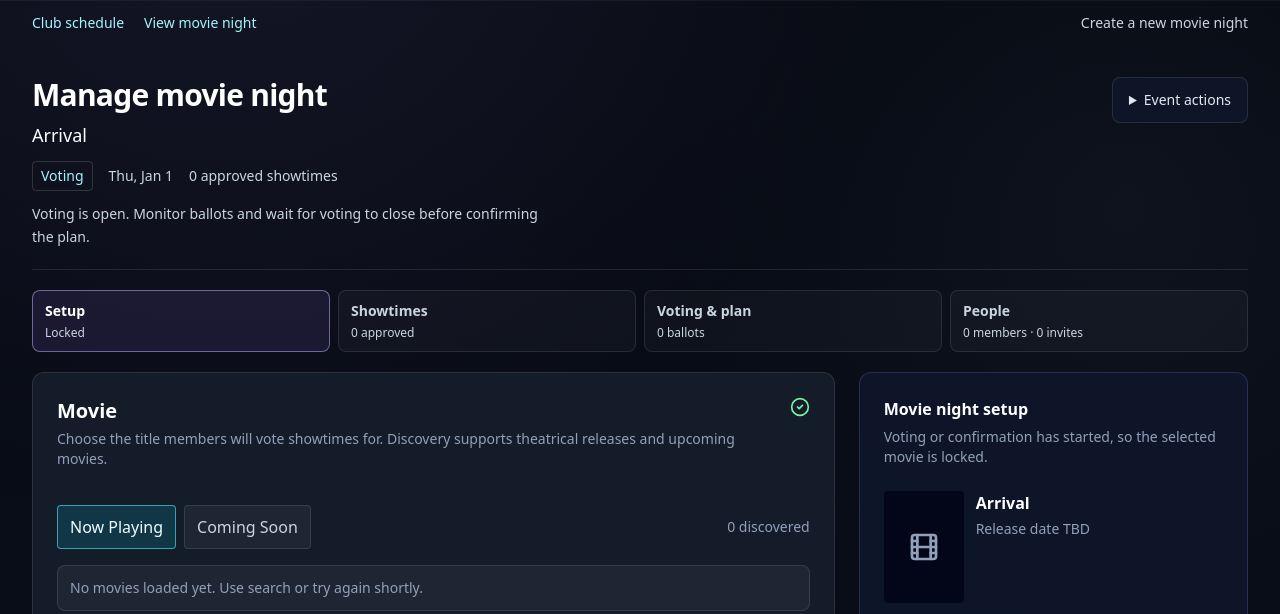
Test: event administration lifecycle › offers cancellation for voting nights outside the tabs
The width and height of the screenshot is (1280, 614).
Click the heading "Event actions". click: [1187, 100]
box: [1144,90,1231,109]
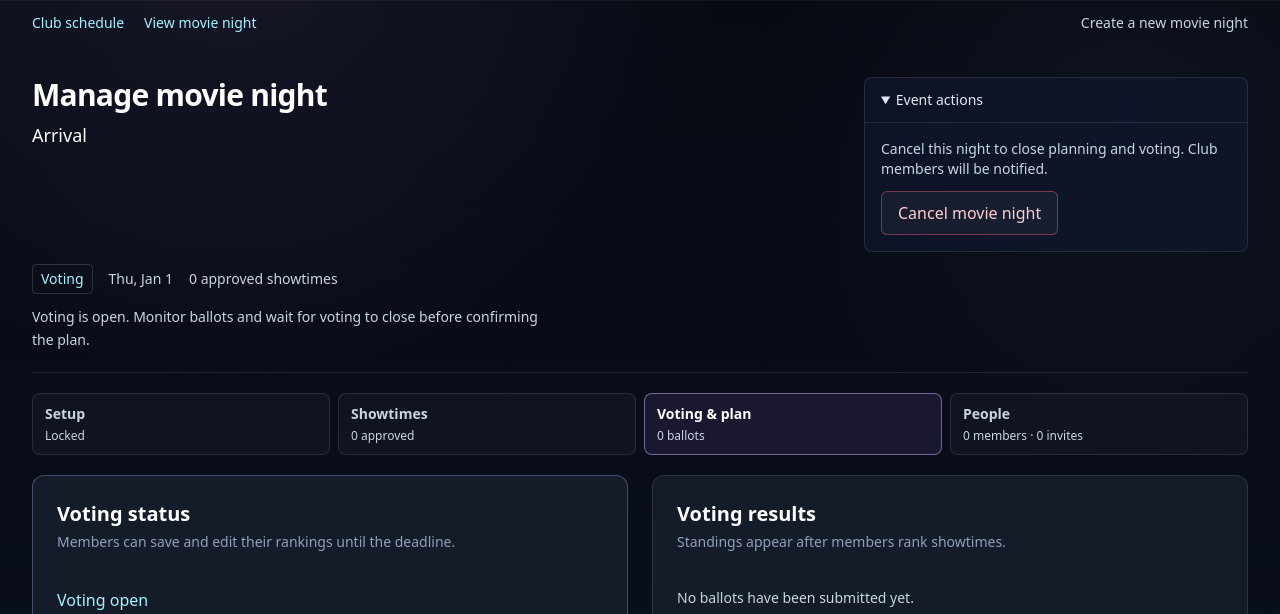
Click the tab "Showtimes 0 approved". click: [389, 413]
box: [338,392,636,454]
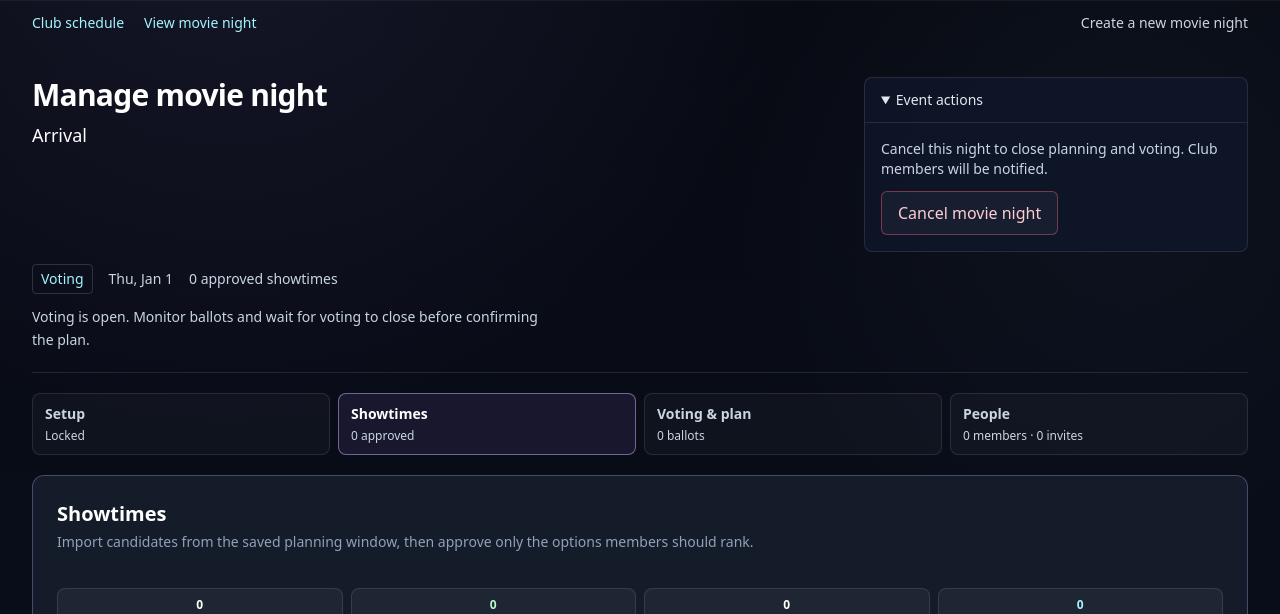
Check: the button "Cancel movie night" is shown
Click the button "Cancel movie night". click: [970, 213]
box: [881,191,1058,235]
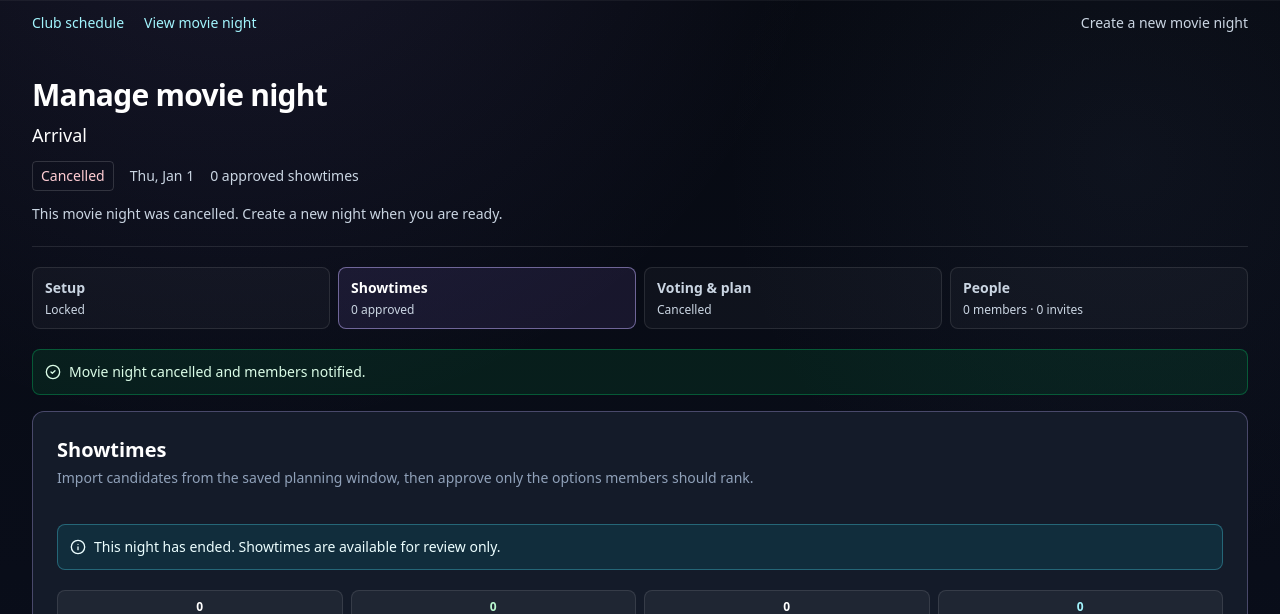
Check: the text "Movie night cancelled and members notified." is shown, box [69,362,366,382]
Check: the button "Cancel movie night" is gone
